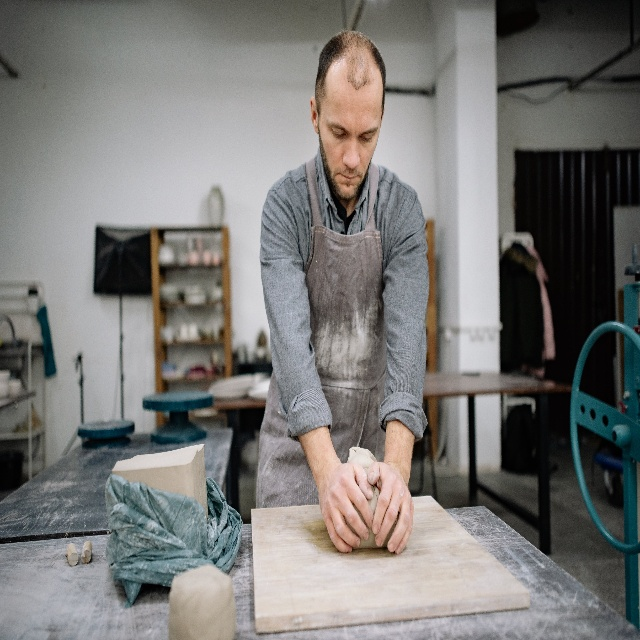Sin_guantes: (318, 462, 374, 552), (367, 461, 414, 555)
